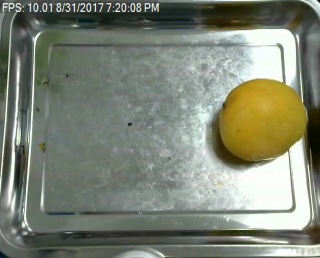Mango: (218, 78, 308, 159)
